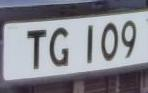0: (96, 19, 121, 65)
1: (80, 20, 100, 69)
9: (118, 17, 140, 63)
G: (48, 23, 73, 73)
T: (20, 25, 51, 76)
